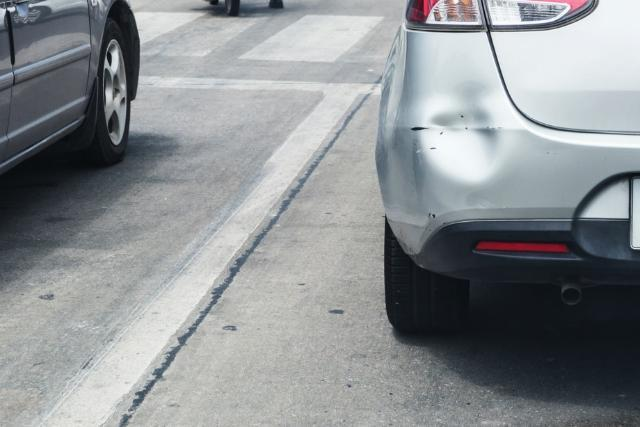Bumper: (407, 69, 512, 205)
